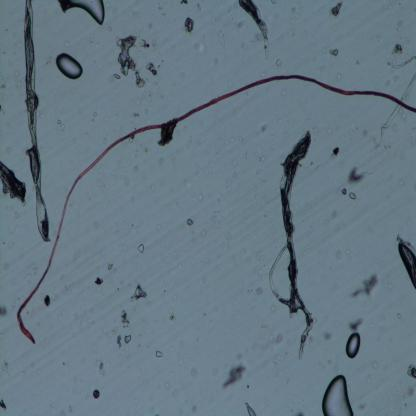Air bubble: (322, 375, 356, 416), (57, 0, 106, 28), (55, 52, 84, 79), (345, 329, 363, 361)
Background material: (116, 35, 139, 75), (350, 274, 380, 300), (220, 364, 245, 390), (21, 261, 38, 285), (156, 127, 175, 147), (128, 284, 148, 301), (268, 326, 283, 346), (349, 167, 364, 186), (214, 28, 228, 48), (106, 68, 122, 85), (330, 0, 343, 19), (120, 309, 131, 331), (348, 320, 364, 334), (134, 71, 146, 89), (95, 358, 107, 376), (389, 44, 404, 58), (256, 123, 270, 137), (137, 313, 150, 328), (183, 18, 195, 34), (194, 40, 206, 56), (0, 362, 11, 379), (243, 401, 256, 415), (146, 62, 159, 76), (184, 134, 196, 149), (209, 213, 220, 229), (42, 293, 52, 310), (150, 78, 162, 92), (190, 189, 203, 201), (358, 399, 369, 413), (91, 110, 102, 123), (139, 36, 150, 49), (304, 222, 314, 236), (256, 248, 266, 262), (335, 247, 343, 264), (407, 364, 416, 379), (188, 400, 197, 415), (110, 325, 121, 337), (90, 388, 100, 400), (330, 147, 340, 159), (252, 32, 262, 44), (56, 118, 66, 130), (236, 18, 246, 30), (362, 126, 370, 140), (62, 38, 73, 48), (329, 210, 340, 220), (256, 153, 266, 164), (0, 306, 9, 318), (340, 187, 349, 199), (127, 193, 136, 205), (328, 49, 341, 57), (400, 108, 408, 121), (11, 208, 21, 218), (348, 192, 358, 202), (406, 386, 416, 396), (0, 399, 9, 410), (145, 19, 154, 30), (66, 285, 74, 297), (395, 19, 403, 31), (318, 357, 326, 369), (115, 336, 122, 349), (190, 368, 199, 378), (323, 333, 333, 342), (124, 334, 132, 345), (256, 286, 264, 297), (28, 307, 35, 319), (123, 175, 130, 187), (66, 402, 73, 414), (186, 218, 195, 227), (154, 350, 164, 358), (94, 277, 104, 285), (370, 360, 380, 368), (133, 112, 144, 119), (0, 74, 5, 89), (58, 407, 66, 416), (150, 182, 157, 192), (157, 2, 164, 12), (236, 353, 246, 360), (171, 310, 176, 324), (173, 388, 179, 399), (242, 150, 248, 161), (274, 60, 282, 68), (279, 89, 287, 97), (138, 245, 145, 254), (199, 228, 206, 237), (108, 262, 113, 274), (270, 302, 275, 314), (201, 275, 207, 285), (396, 309, 402, 319), (326, 358, 333, 366), (344, 247, 350, 256), (258, 268, 264, 277), (132, 162, 137, 172), (158, 155, 163, 165), (336, 72, 342, 80), (392, 125, 398, 133), (94, 41, 99, 50), (181, 0, 190, 5), (171, 156, 176, 165), (234, 171, 239, 180), (295, 411, 304, 416), (105, 26, 112, 32), (269, 0, 277, 5), (152, 38, 156, 48), (197, 2, 201, 12), (165, 382, 170, 390), (162, 13, 168, 19), (326, 130, 332, 136), (403, 401, 408, 408), (233, 158, 237, 166), (120, 280, 125, 286), (356, 60, 361, 65), (389, 284, 393, 290), (285, 380, 291, 384)
Cellulose filter fibre: (266, 129, 316, 360), (23, 1, 52, 242), (376, 54, 416, 147), (238, 0, 272, 62), (0, 162, 29, 206), (396, 233, 416, 288)
Cotton: (17, 74, 416, 345)
